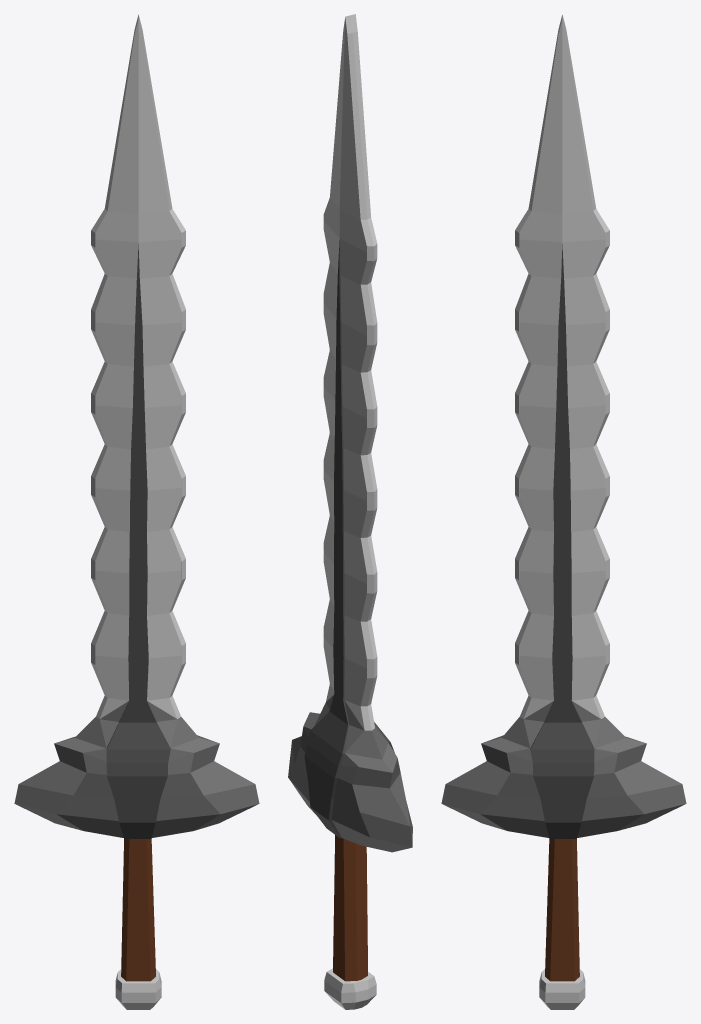
File: sword2.fbx
3 views of the same model, side by side, from view 1: azimuth 90°, elevation 25°; view 2: azimuth 210°, elevation 25°; view 3: azimuth 270°, elevation 25° (orthographic).
Visible parts, largest first — view 1: Меч2; view 2: Меч2; view 3: Меч2.
Boxes of the visible parts, x1,y1,x2,y2 form: Меч2: (14, 14, 259, 1009); Меч2: (288, 14, 412, 1009); Меч2: (441, 14, 686, 1009).
Size of the model in its own units: 70.11 by 1051 by 236.
